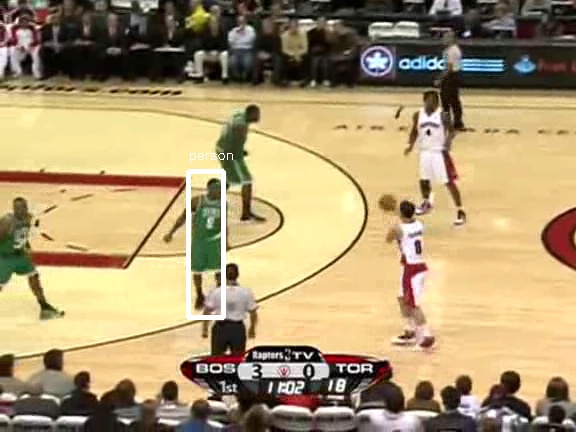person: (193, 191, 227, 272), (192, 191, 226, 272), (194, 191, 228, 272), (193, 190, 227, 271), (193, 192, 227, 273)
target_negative: (47, 13, 235, 243), (482, 103, 567, 212), (92, 291, 246, 338), (244, 226, 272, 363), (387, 294, 456, 307), (309, 304, 332, 333)
